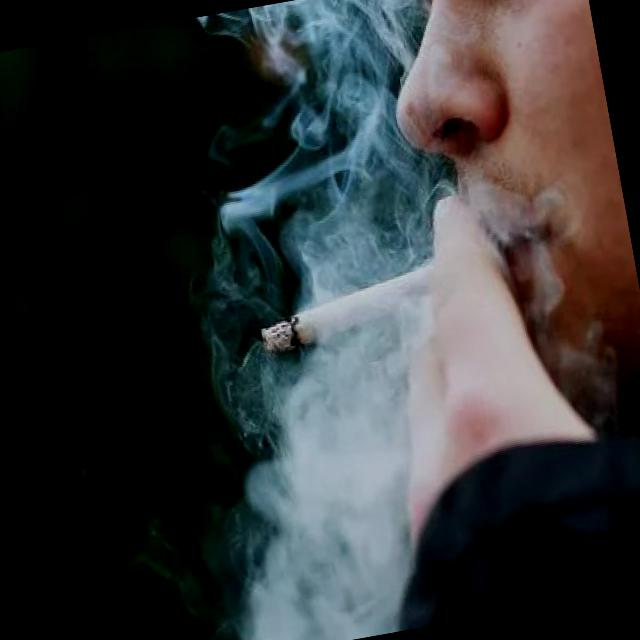cigarette: (246, 248, 463, 362)
